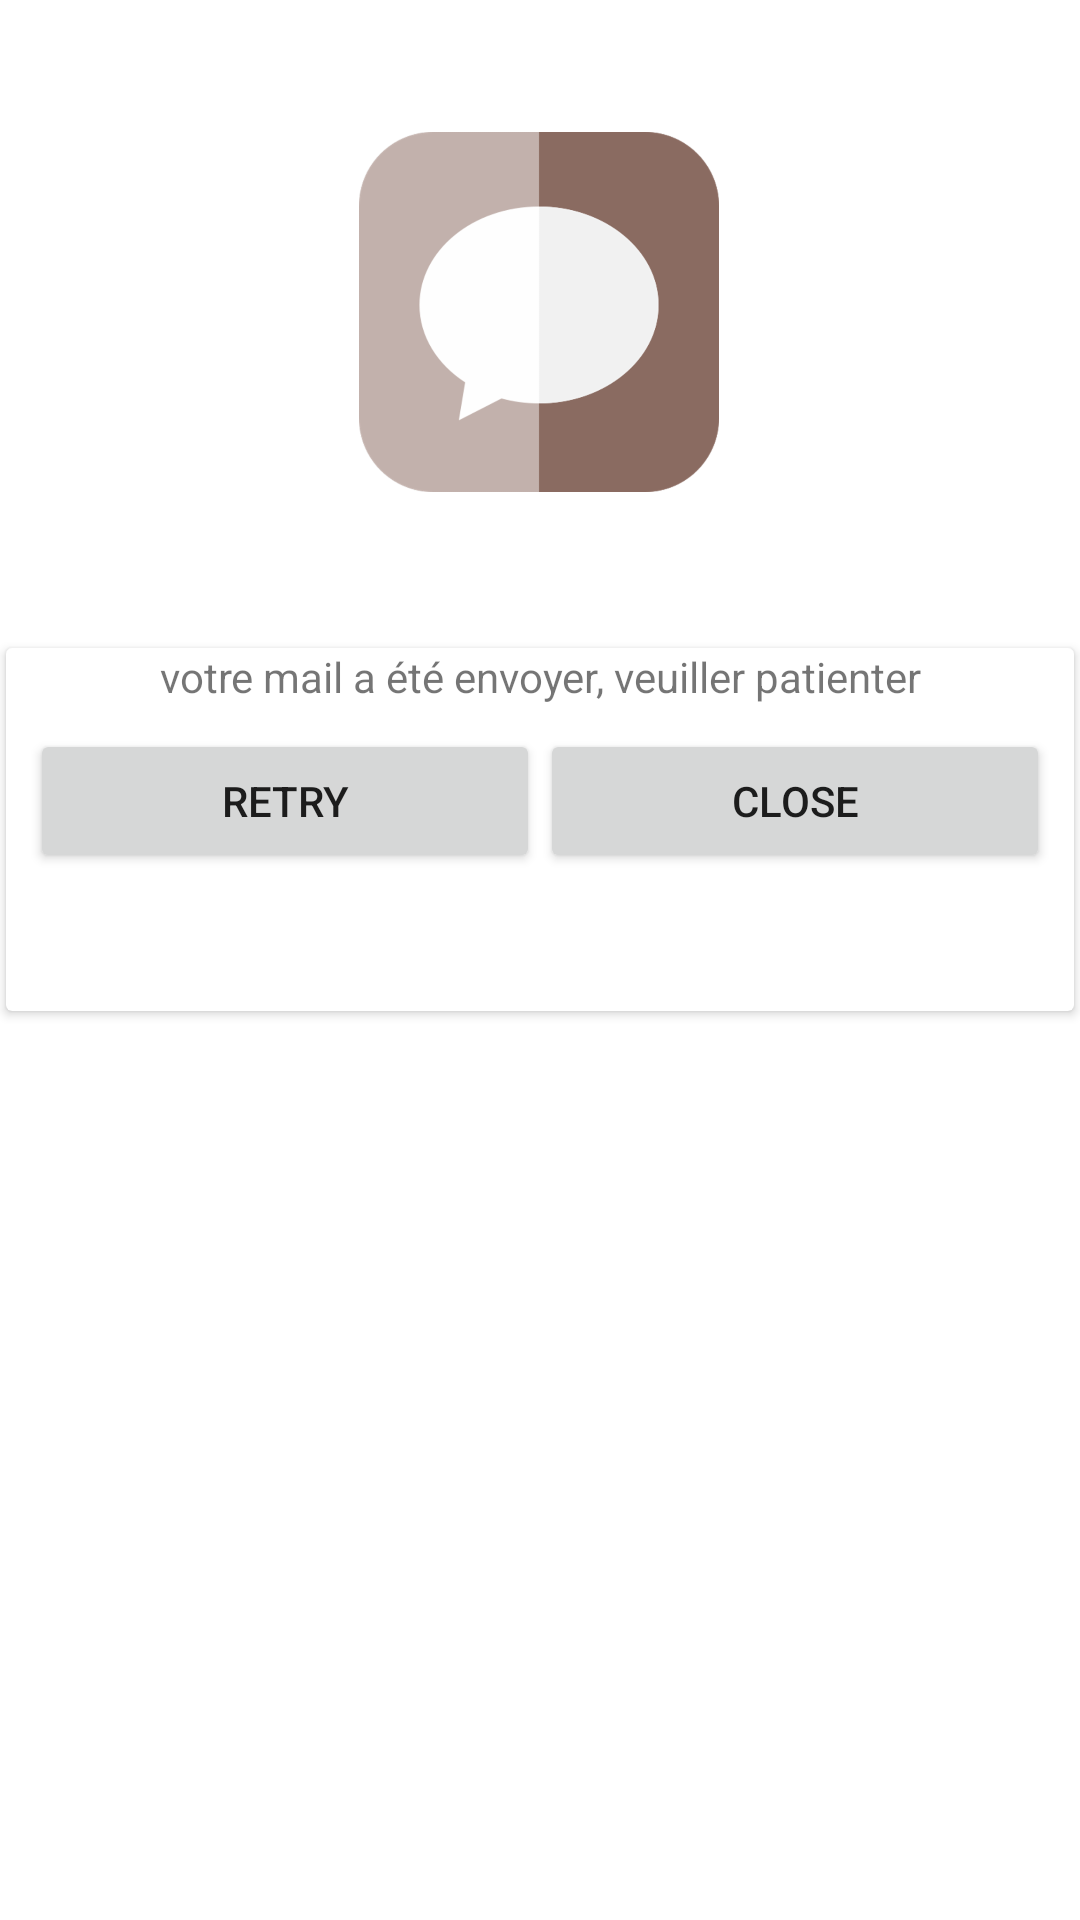

Locate icon controls on the screen. Image size 1080x1920, boxes as (x1, y1, x2, y2).
message: (359, 132, 719, 492)
